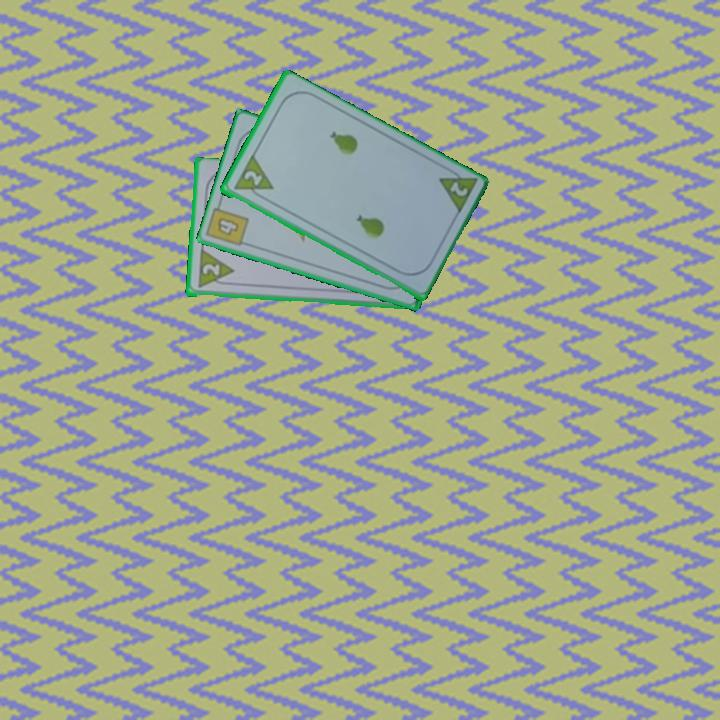2p: (229, 153, 276, 204), (446, 178, 471, 200), (198, 260, 222, 280)
4b: (213, 214, 241, 239)
